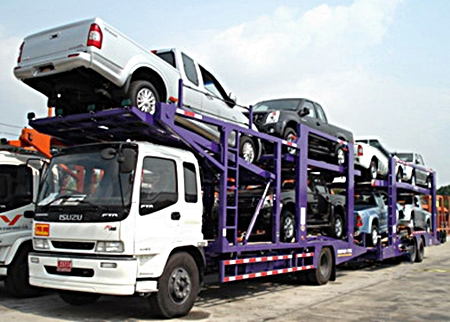truck: (31, 129, 343, 315)
